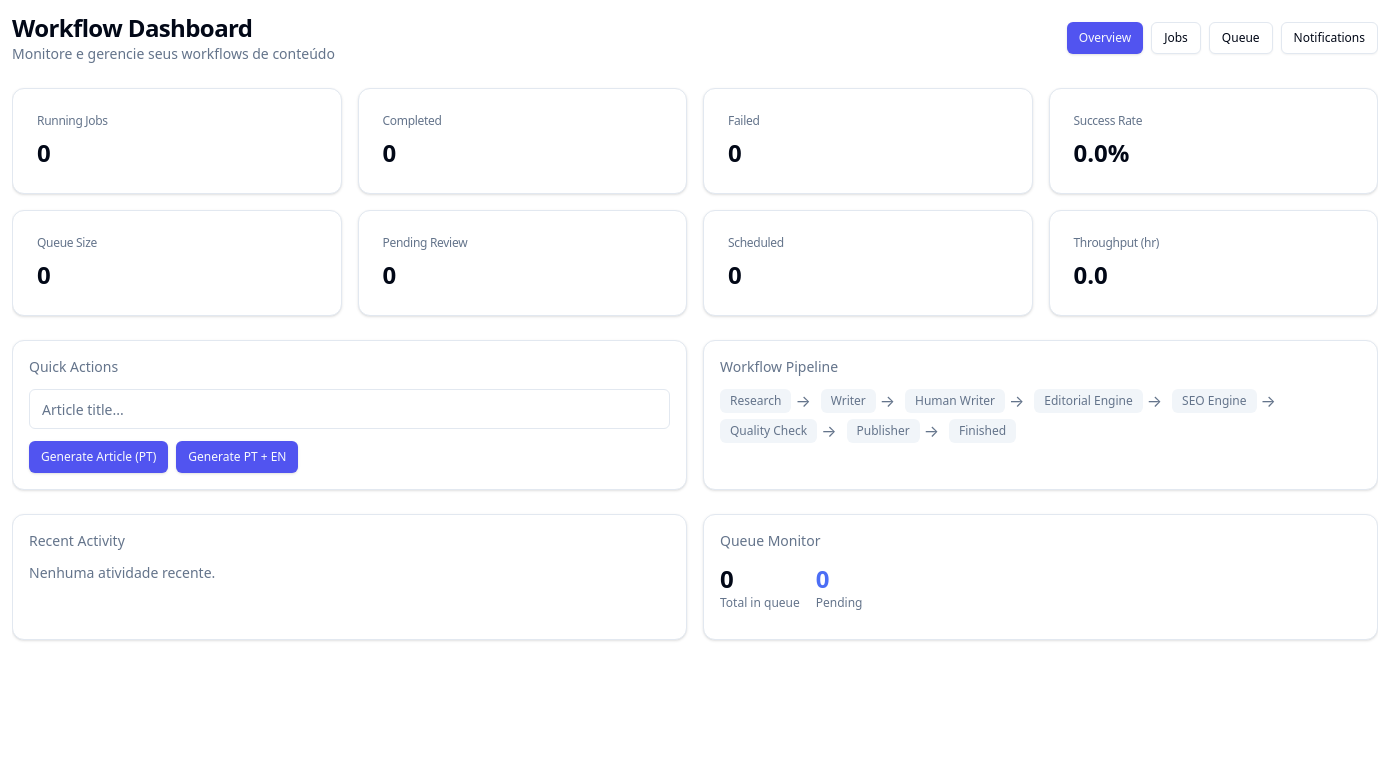
Workflow notifications tab › renders notifications with title, message and severity badge
Click the button "Notifications" at (1329, 38), box [1281,22,1378,54]
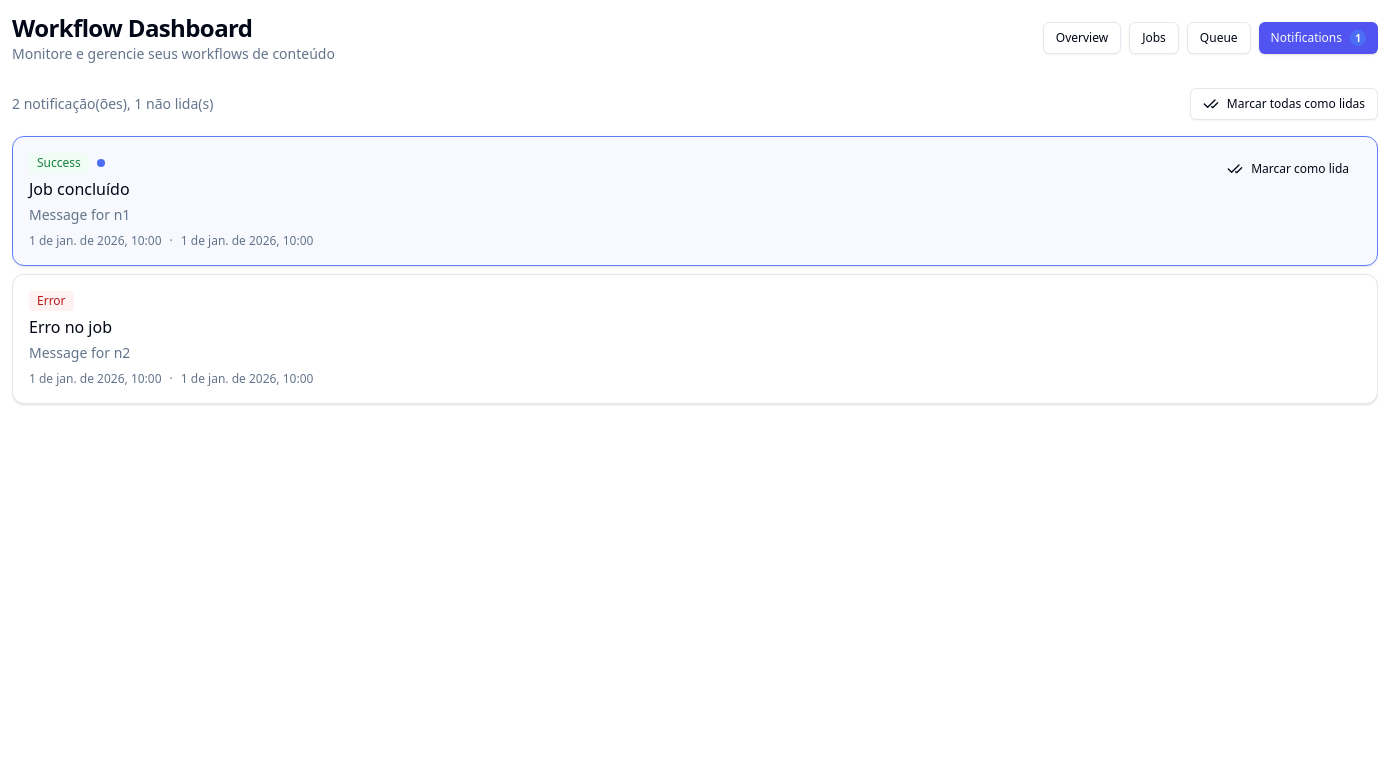
Now the heading "Job concluído" is shown, box [29,178,130,200]
Now the heading "Erro no job" is shown, box [29,316,112,338]
Now the text "Error" is shown, box [29,291,74,311]
